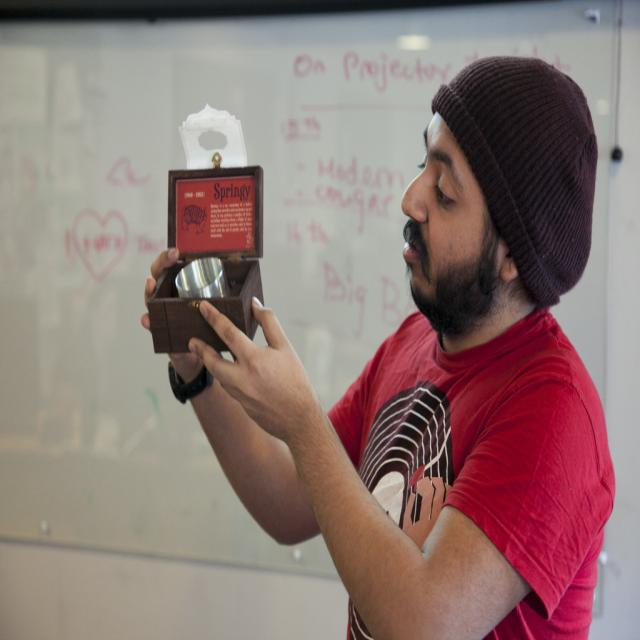no_helmet: (444, 140, 602, 288)
